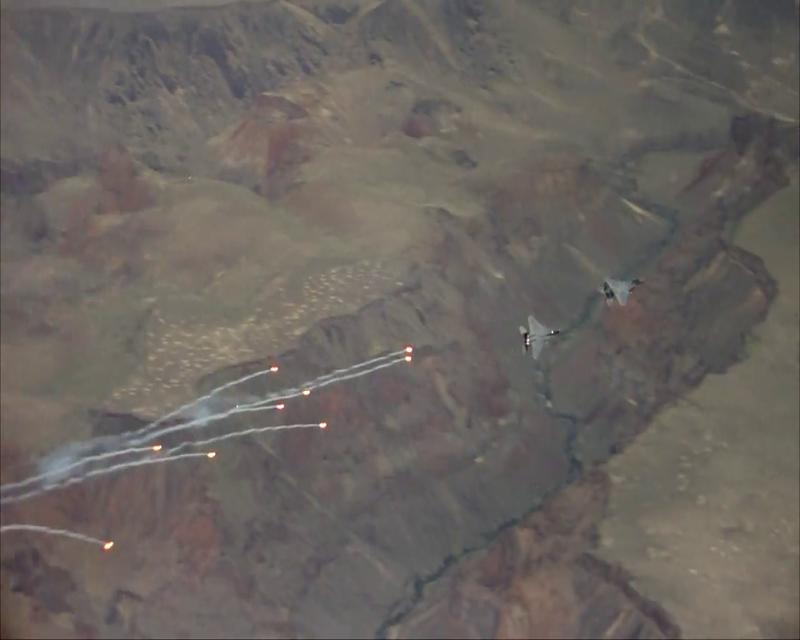UAV: (518, 315, 561, 361), (596, 276, 646, 309)
